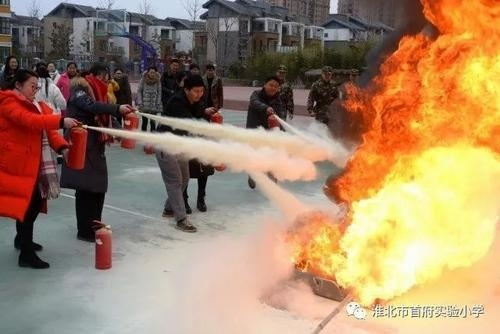fire: (274, 0, 500, 311)
